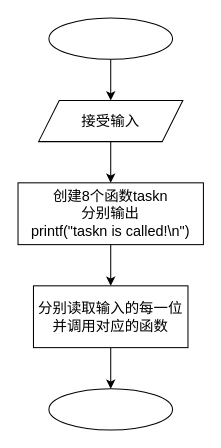
This 221x448 diagram has some shape labels left out. The shapes that lost their labels are listed below. From the top down, each one's centre as x and y in pixels, then its label:
point (110, 38): 程序开始
point (110, 409): 程序结束
